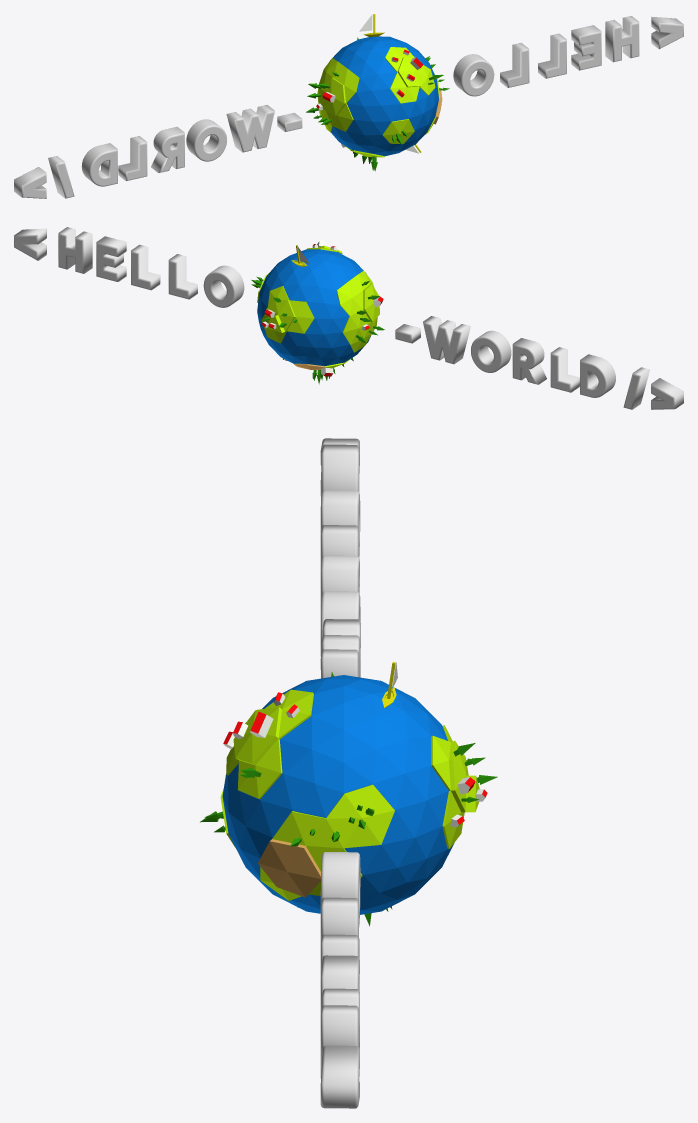
File: Hello-world5_1.glb
The picture shows the model from 3 angles, top to bottom: view 1: azimuth 30°, elevation 25°; view 2: azimuth 150°, elevation 25°; view 3: azimuth 270°, elevation 25°; orthographic projection. The views are drawn at different scales.
Parts seen in each view (by area): view 1: World, W, H, O, O.002, D, R, E, L.003, L.001, L, < (+3 smaller); view 2: World, W, H, O, O.002, R, D, E, L.001, L, L.003, < (+3 smaller); view 3: World, <, H, W, O, L.002, R, L.001, D, E, O.002, L.003.
Boxes of the visible parts, x1,y1,x2,y2 form: World: [306, 14, 449, 171]; W: [226, 105, 274, 152]; H: [605, 16, 639, 62]; O: [453, 54, 494, 96]; O.002: [186, 119, 226, 161]; D: [81, 143, 117, 186]; R: [151, 126, 184, 172]; E: [571, 25, 601, 70]; L.003: [118, 136, 147, 180]; L.001: [500, 42, 529, 87]; L: [538, 33, 566, 78]; <: [651, 16, 683, 49]; World: [251, 239, 384, 384]; W: [423, 316, 470, 364]; H: [58, 227, 92, 273]; O: [203, 265, 244, 307]; O.002: [471, 330, 511, 372]; R: [512, 338, 546, 384]; D: [580, 354, 615, 397]; E: [96, 236, 126, 281]; L.001: [168, 254, 197, 299]; L: [131, 244, 160, 290]; L.003: [550, 347, 579, 392]; <: [14, 228, 46, 260]; World: [200, 661, 497, 926]; <: [320, 1045, 359, 1108]; H: [320, 988, 359, 1078]; W: [320, 619, 360, 678]; O: [320, 852, 360, 926]; L.002: [321, 444, 359, 501]; R: [320, 555, 359, 629]; L.001: [320, 897, 359, 957]; D: [320, 490, 360, 557]; E: [320, 955, 359, 1014]; O.002: [320, 591, 360, 656]; L.003: [320, 525, 358, 571].
Size of the model in its own units: 13.34 by 2.68 by 2.61.
